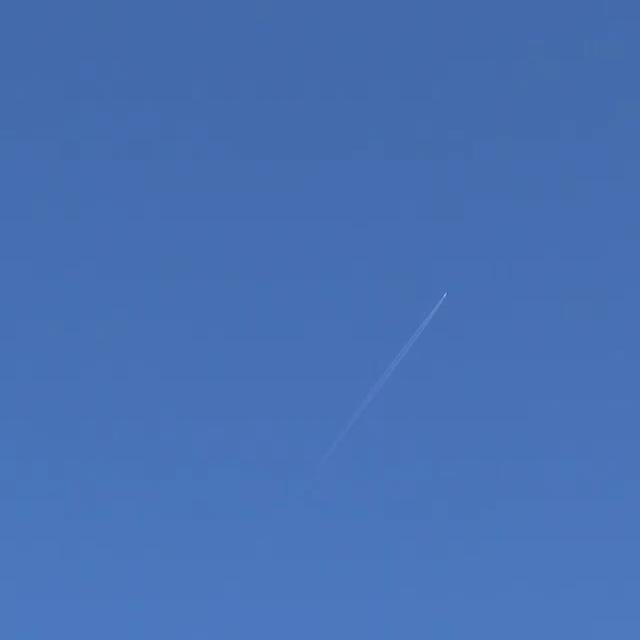AirPlane: (398, 280, 454, 354)
